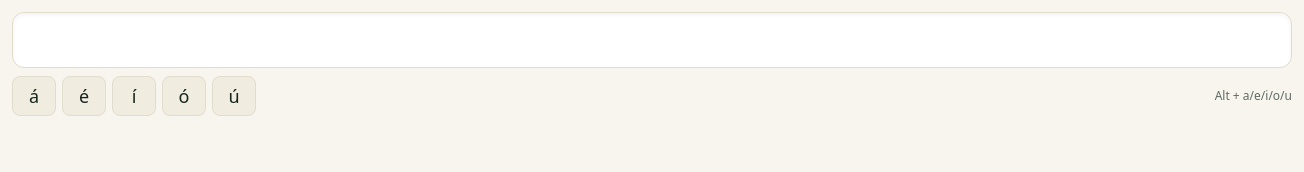
it: FadaInput › types a fada with Alt + vowel
Click the field named "answer" at (652, 40), box [12,12,1292,68]
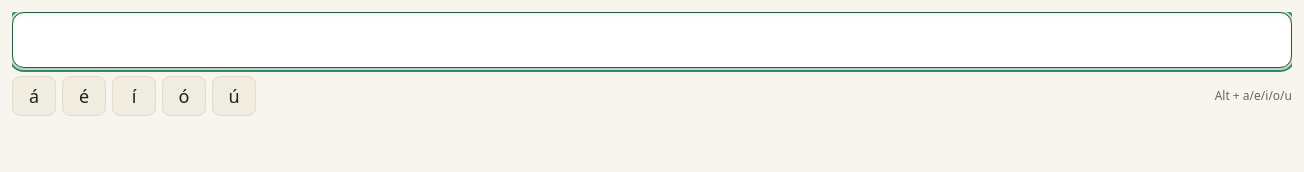
Type keys "t{Alt>}a{/Alt}"
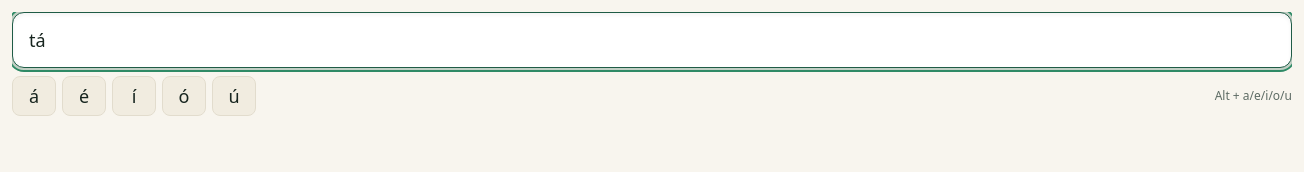
Now the field named "answer" holds "tá", box [12,12,1292,68]
